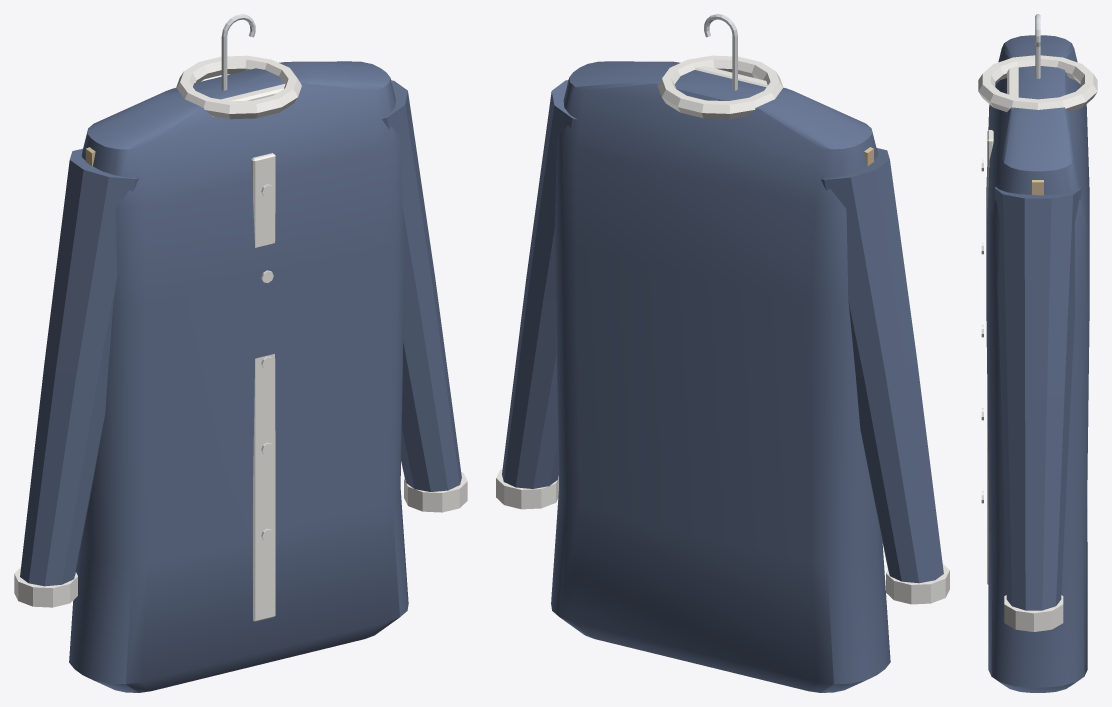
Rendered from swap-shirt-blue.glb.
3 views of the same model, side by side, from view 1: azimuth 30°, elevation 25°; view 2: azimuth 150°, elevation 25°; view 3: azimuth 270°, elevation 25° (orthographic). The views are drawn at different scales.
Visible parts, largest first — view 1: shirt-on-hanger-blue; view 2: shirt-on-hanger-blue; view 3: shirt-on-hanger-blue.
Boxes of the visible parts, <box> form: shirt-on-hanger-blue: <box>14,14,467,692</box>; shirt-on-hanger-blue: <box>496,14,949,692</box>; shirt-on-hanger-blue: <box>978,14,1097,692</box>.
Size of the model in its own units: 0.6236 by 0.8513 by 0.1501.
